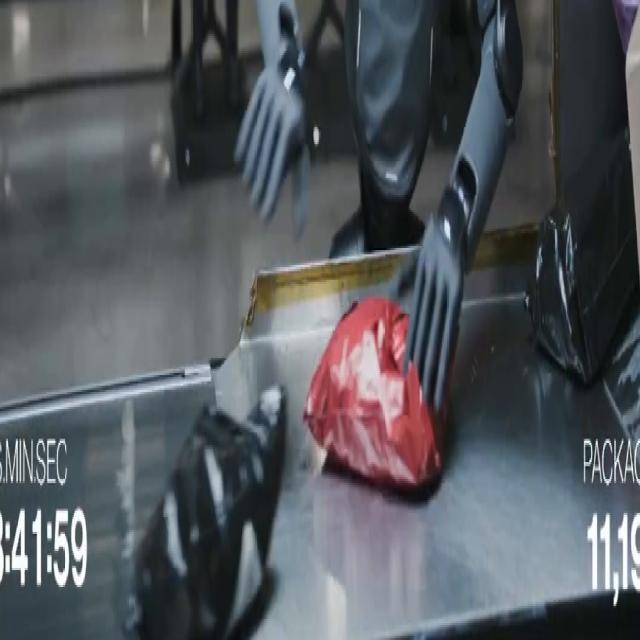package: (133, 386, 286, 639), (526, 130, 638, 383), (303, 297, 445, 491), (626, 13, 639, 256), (612, 0, 638, 52)
